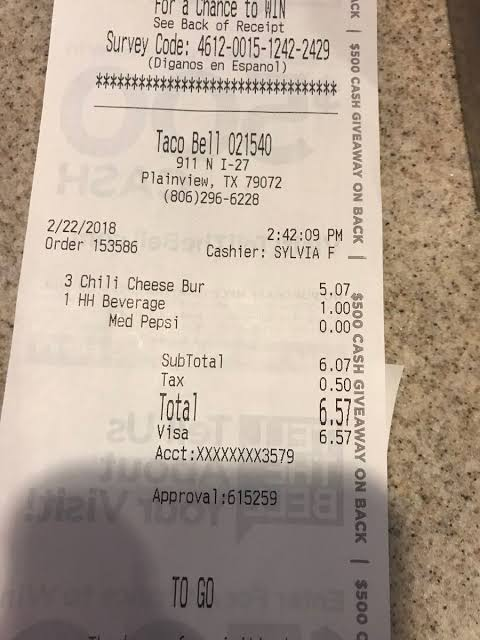Taco Bell: (149, 120, 225, 157)
